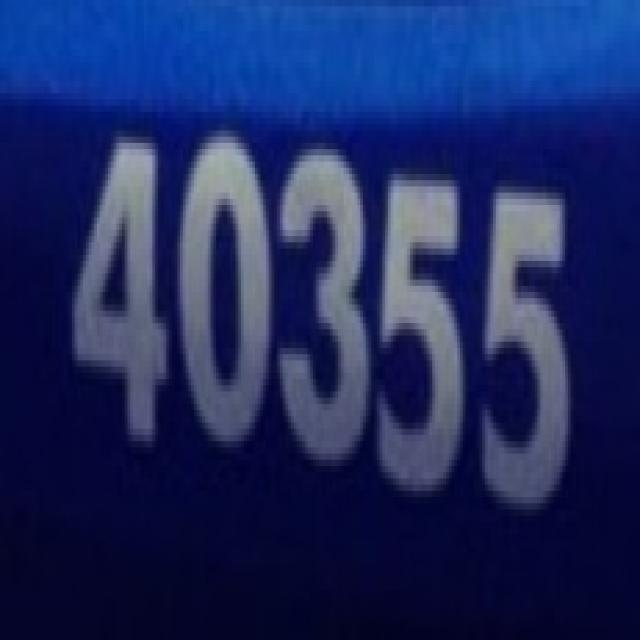licenseplate: (46, 88, 586, 550)
